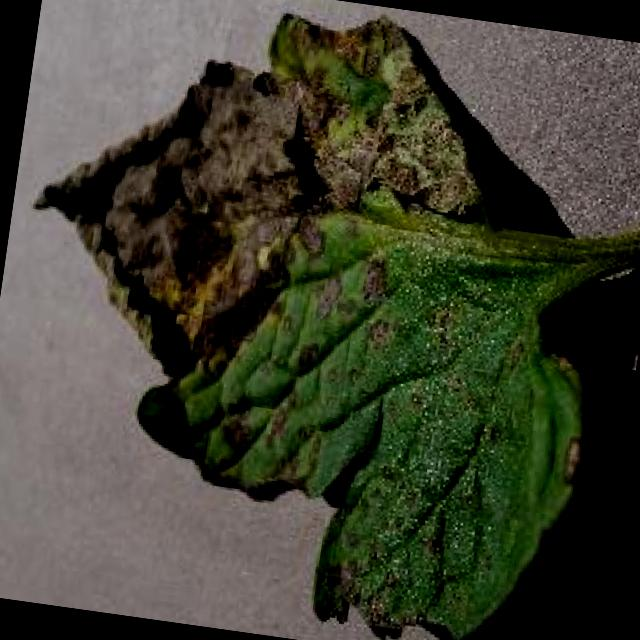leaf blight: (34, 10, 640, 640)
